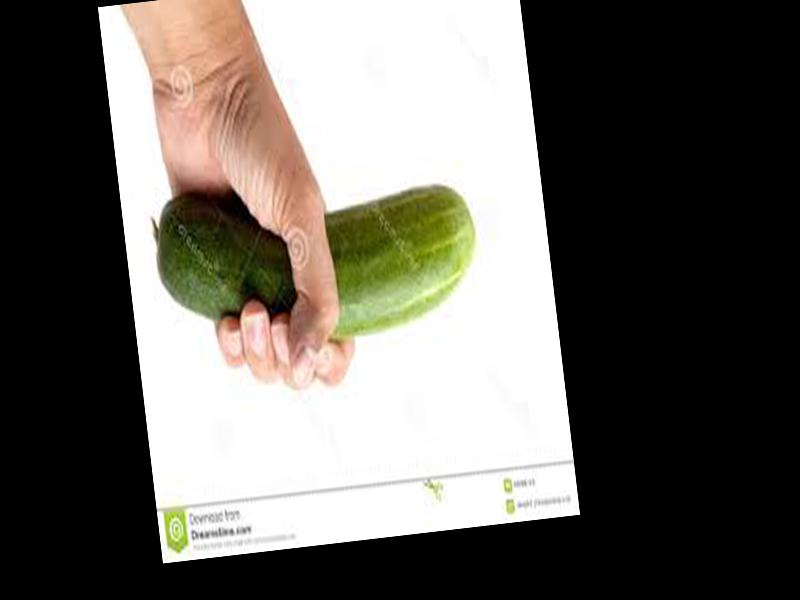Cucumber: (152, 163, 486, 361)
